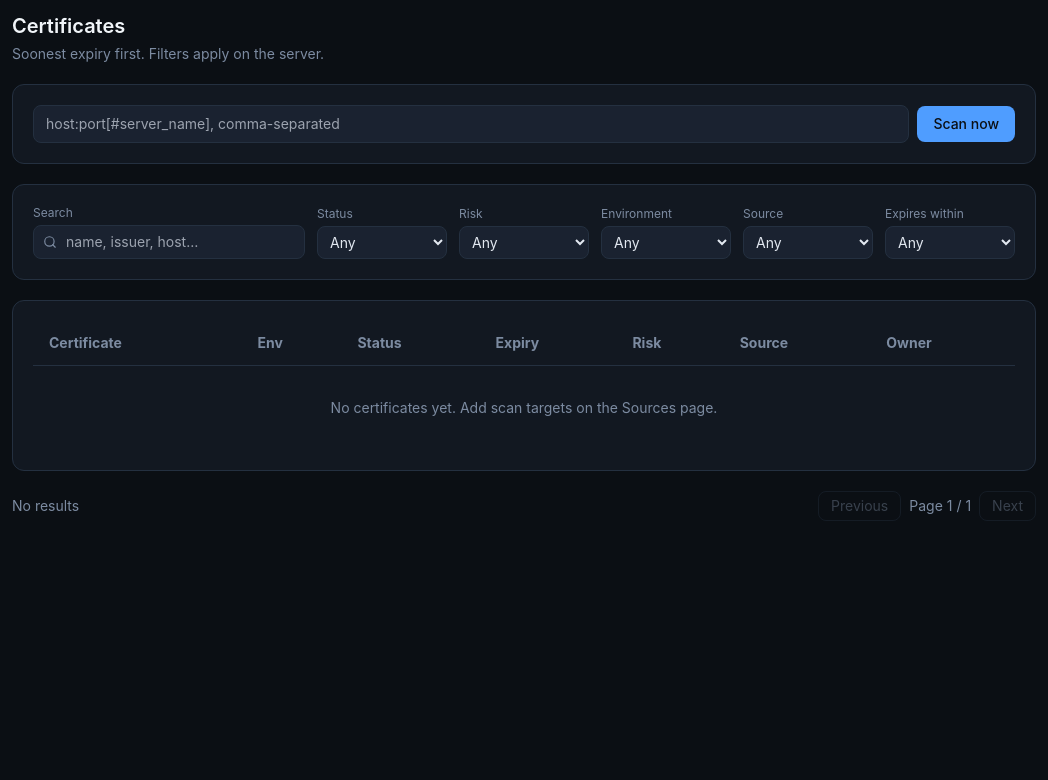
it: Certificates › distinguishes "no matches" from "no certificates yet"
The width and height of the screenshot is (1048, 780).
Expected: the text "No certificates yet. Add scan targets on the Sources page." is shown, [33,366,1015,450]
Select "expired" in the dropdown labelled "Status" at (382, 242), box [317,226,447,259]
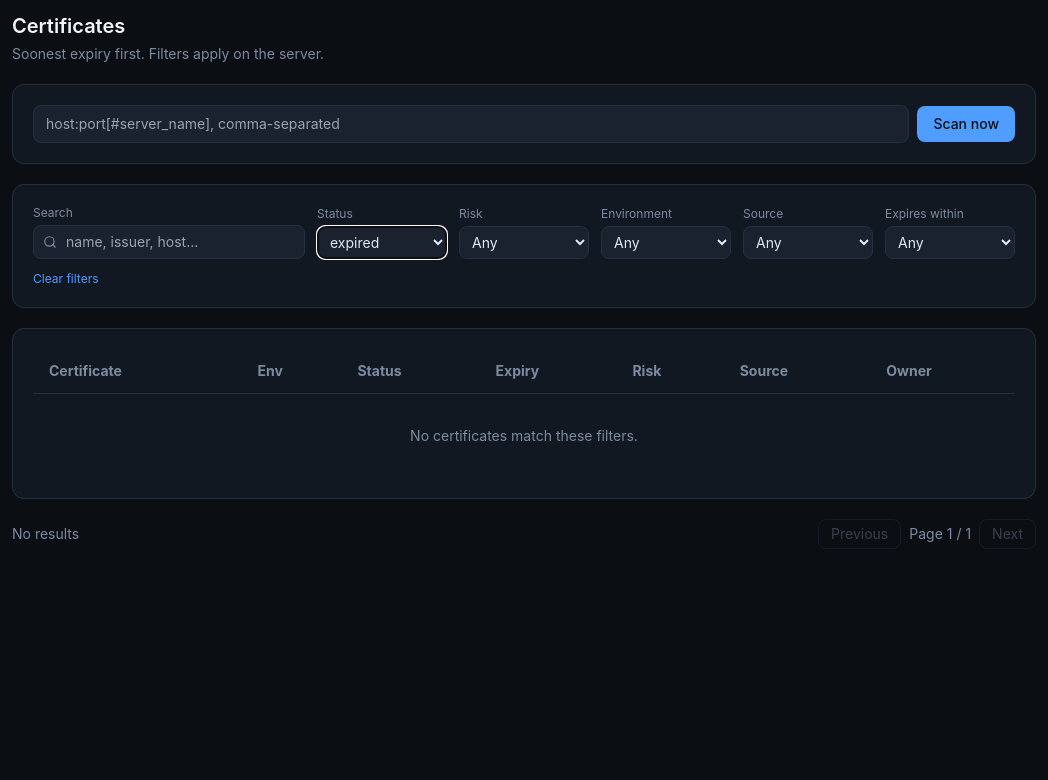
Now the text "No certificates match these filters." is shown, box [33,394,1015,478]
